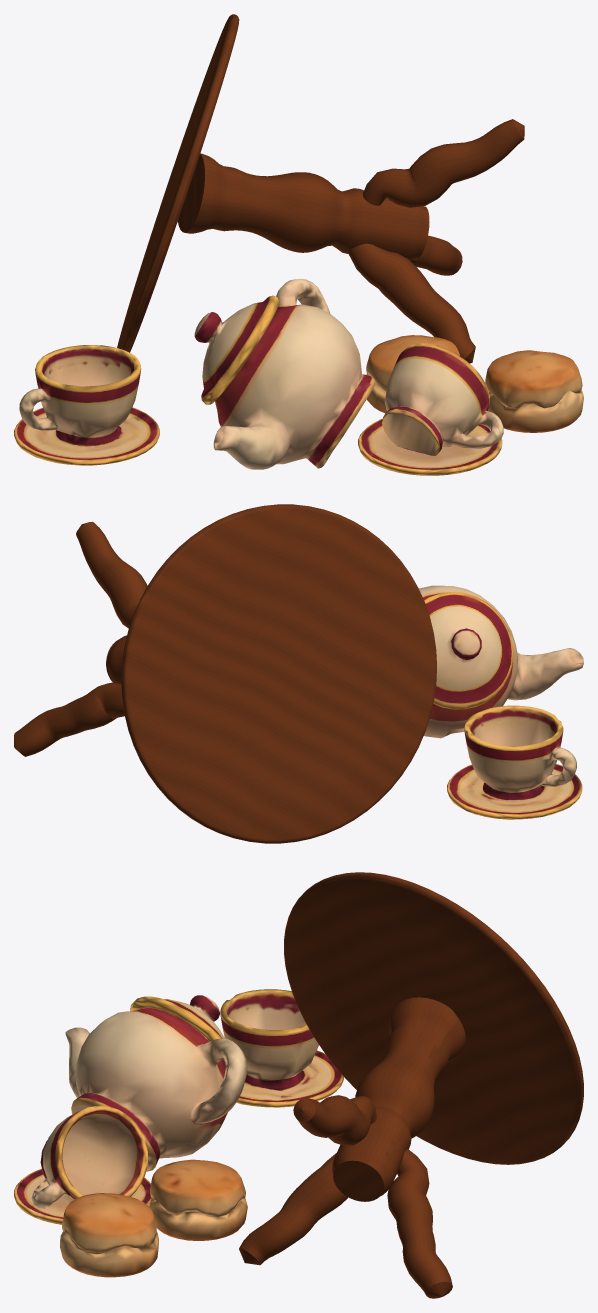
The model's file is tea_table_set_v3.glb.
3 renders of one model, top to bottom at view 1: azimuth 30°, elevation 25°; view 2: azimuth 150°, elevation 25°; view 3: azimuth 270°, elevation 25°, orthographic. The views are drawn at different scales.
Visible parts, largest first — view 1: table, teapot, cup_a, cup_b, scone_1, saucer_b, saucer_a, scone_2; view 2: table, teapot, cup_b, saucer_b; view 3: table, teapot, cup_a, scone_1, cup_b, scone_2, saucer_b, saucer_a.
Boxes of the visible parts, bbox=[...] form: table: bbox=[117, 14, 524, 363]; teapot: bbox=[194, 278, 374, 469]; cup_a: bbox=[382, 343, 503, 455]; cup_b: bbox=[19, 345, 141, 445]; scone_1: bbox=[485, 350, 583, 432]; saucer_b: bbox=[14, 407, 159, 465]; saucer_a: bbox=[358, 418, 502, 475]; scone_2: bbox=[366, 335, 459, 412]; table: bbox=[14, 504, 436, 843]; teapot: bbox=[419, 585, 583, 738]; cup_b: bbox=[464, 705, 576, 799]; saucer_b: bbox=[447, 763, 582, 819]; table: bbox=[239, 872, 583, 1298]; teapot: bbox=[65, 995, 247, 1171]; cup_a: bbox=[31, 1105, 147, 1208]; scone_1: bbox=[60, 1193, 158, 1277]; cup_b: bbox=[220, 989, 318, 1090]; scone_2: bbox=[149, 1159, 247, 1240]; saucer_b: bbox=[236, 1050, 344, 1107]; saucer_a: bbox=[14, 1169, 151, 1224].
Size of the model in its own units: 1.2 by 0.7012 by 1.16.
Materials: 2 (2 with a texture image).
